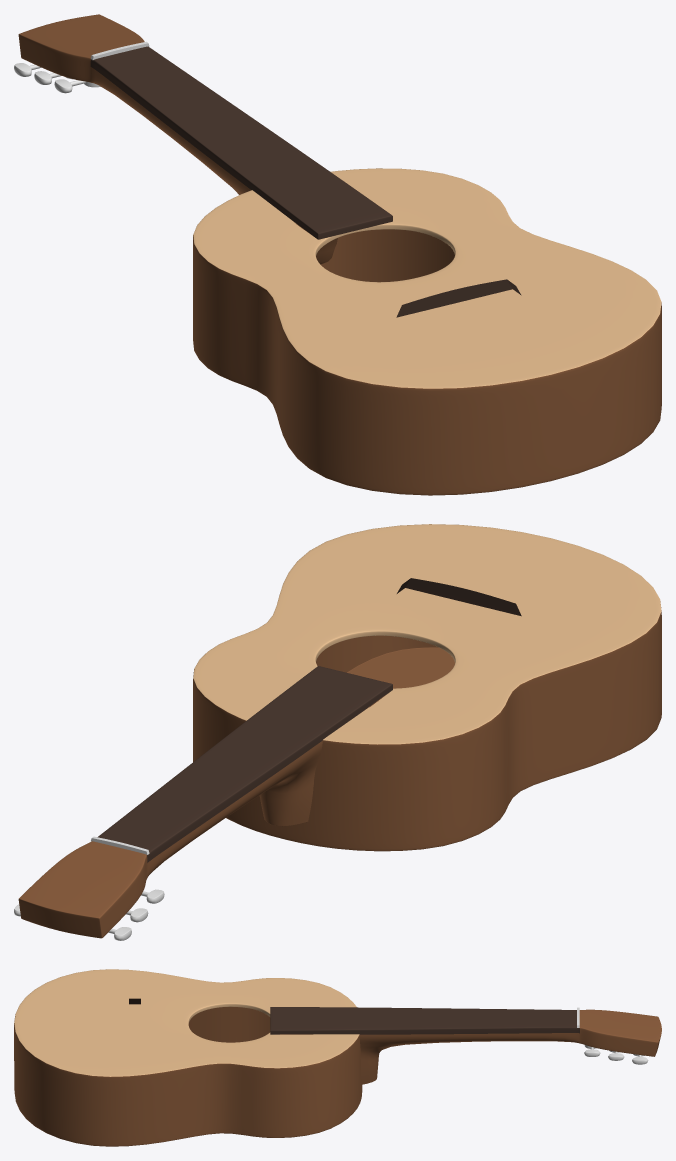
File: guitar.gltf
3 views of the same model, one above another, from view 1: azimuth 30°, elevation 25°; view 2: azimuth 150°, elevation 25°; view 3: azimuth 270°, elevation 25° (orthographic). The views are drawn at different scales.
Parts seen in each view (by area): view 1: Guitar, TuningKeys; view 2: Guitar, TuningKeys; view 3: Guitar, TuningKeys.
Part boxes in pixels (box(x1,y1,x2,y2)): Guitar: box(18, 14, 661, 495); TuningKeys: box(14, 63, 100, 93); Guitar: box(18, 524, 661, 938); TuningKeys: box(14, 889, 164, 940); Guitar: box(14, 969, 661, 1146); TuningKeys: box(584, 1045, 648, 1064).
Bounding box in the file's own units: 0.4015 × 0.1378 × 1.02.
